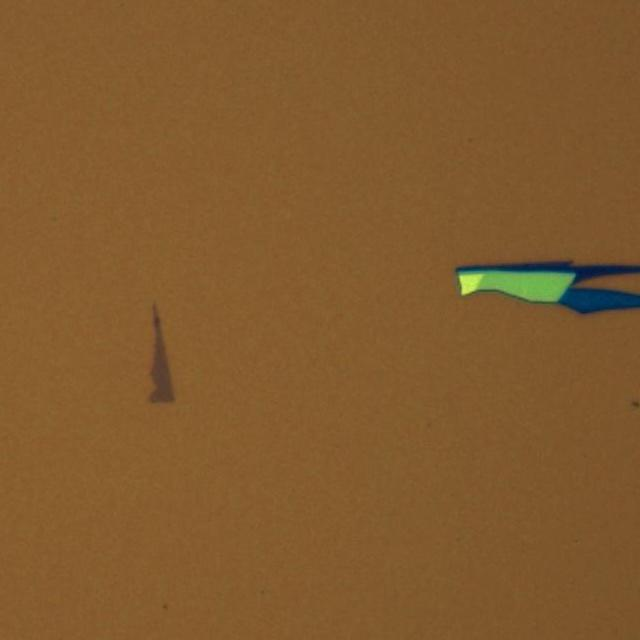monolayer-eWW4: (146, 296, 178, 410)
